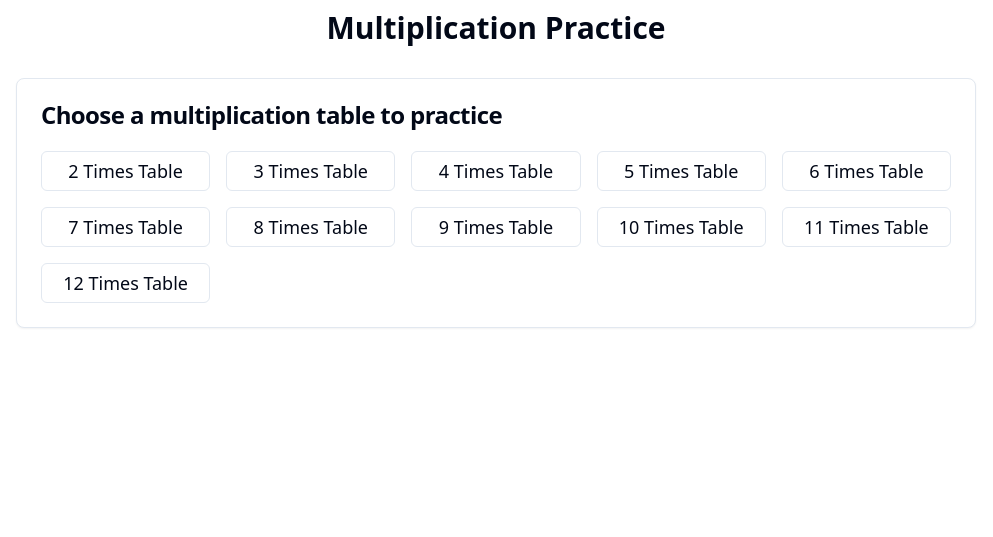
Test case: Multiplication Game Page › starts the game when a table is selected
Click the button "11 Times Table".
click(866, 227)  # box x1=782 y1=207 x2=951 y2=247
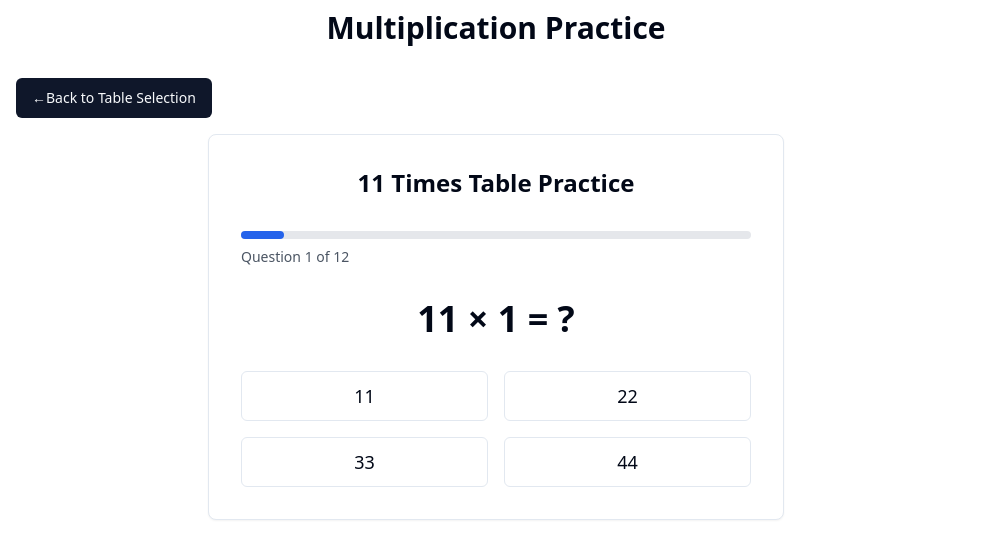
Check: the text "11 × 1 = ?" is shown, box x1=417 y1=299 x2=575 y2=339
